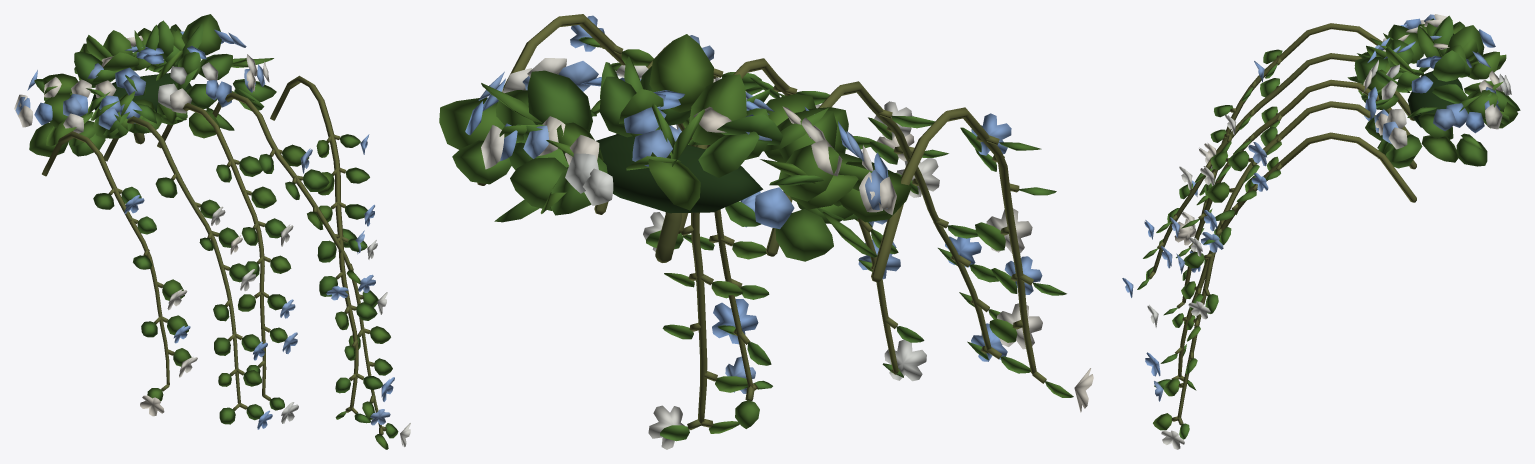
Rendered from box_lobelia_white.glb.
The picture shows the model from 3 angles, left to right: view 1: azimuth 30°, elevation 25°; view 2: azimuth 150°, elevation 25°; view 3: azimuth 270°, elevation 25°; orthographic projection. The views are drawn at different scales.
Visible parts, largest first — view 1: Sammel Pflanze, Sammel Putz, Sammel Blatt; view 2: Sammel Pflanze, Sammel Putz, Sammel Blatt; view 3: Sammel Pflanze, Sammel Putz, Sammel Blatt.
Part boxes in pixels (x1,y1,x2,y2): Sammel Pflanze: (14, 14, 410, 449); Sammel Putz: (42, 75, 386, 434); Sammel Blatt: (91, 73, 191, 112); Sammel Pflanze: (439, 15, 1093, 449); Sammel Putz: (477, 14, 1046, 429); Sammel Blatt: (596, 134, 763, 213); Sammel Pflanze: (1122, 14, 1520, 449); Sammel Putz: (1148, 23, 1416, 425); Sammel Blatt: (1407, 71, 1463, 127).
Size of the model in its own units: 0.313 by 0.3844 by 0.3964.
